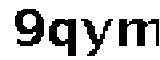9: (11, 6, 46, 52)
m: (116, 13, 160, 50)
q: (48, 17, 79, 60)
y: (80, 16, 112, 60)
